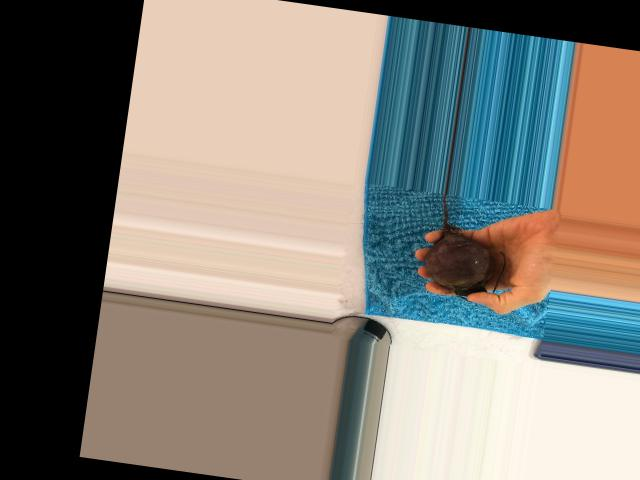beet: (419, 191, 513, 305)
